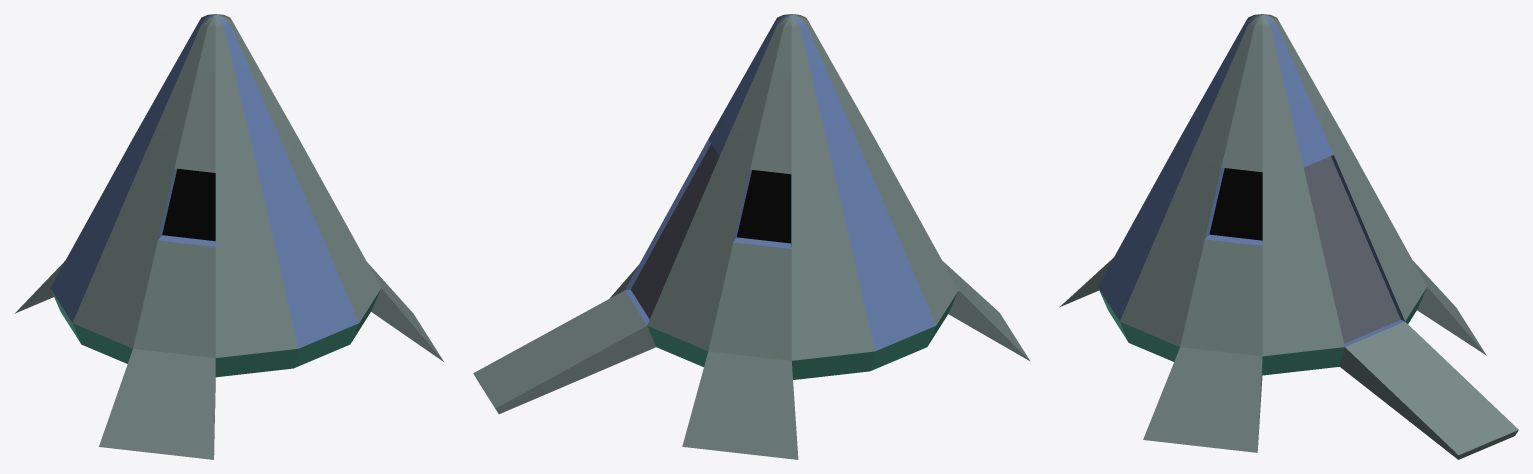
Rendered from rocket.fbx.
3 views of the same model, side by side, from view 1: azimuth 30°, elevation 25°; view 2: azimuth 150°, elevation 25°; view 3: azimuth 270°, elevation 25° (orthographic).
Parts seen in each view (by area): view 1: pCone1; view 2: pCone1; view 3: pCone1.
Boxes of the visible parts, x1=… form: pCone1: x1=15, y1=14, x2=443, y2=459; pCone1: x1=473, y1=14, x2=1030, y2=459; pCone1: x1=1059, y1=14, x2=1518, y2=459.
Bounding box in the file's own units: 16.2 × 13.56 × 16.44.
